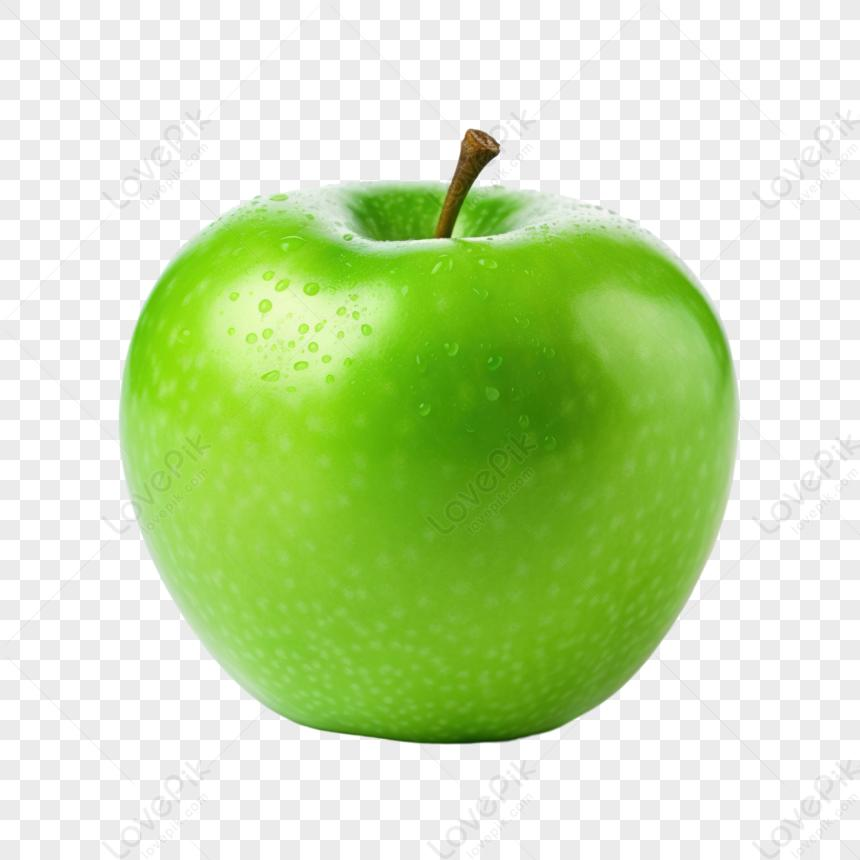apples: (58, 164, 814, 729)
